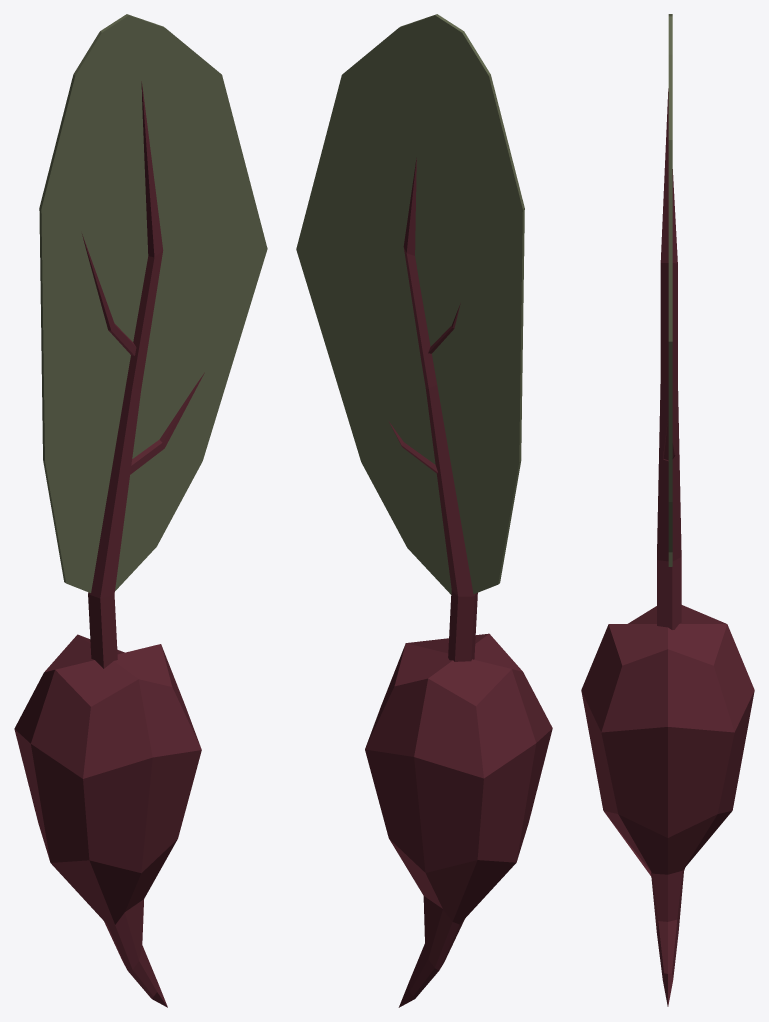
File: Beet_2.gltf
3 views of the same model, side by side, from view 1: azimuth 30°, elevation 25°; view 2: azimuth 150°, elevation 25°; view 3: azimuth 270°, elevation 25° (orthographic). The views are drawn at different scales.
Visible parts, largest first — view 1: Beet_2; view 2: Beet_2; view 3: Beet_2.
Boxes of the visible parts, x1,y1,x2,y2 form: Beet_2: [14, 14, 267, 1007]; Beet_2: [296, 14, 552, 1007]; Beet_2: [581, 14, 754, 1006].
Size of the model in its own units: 0.2131 by 0.8597 by 0.1389.
